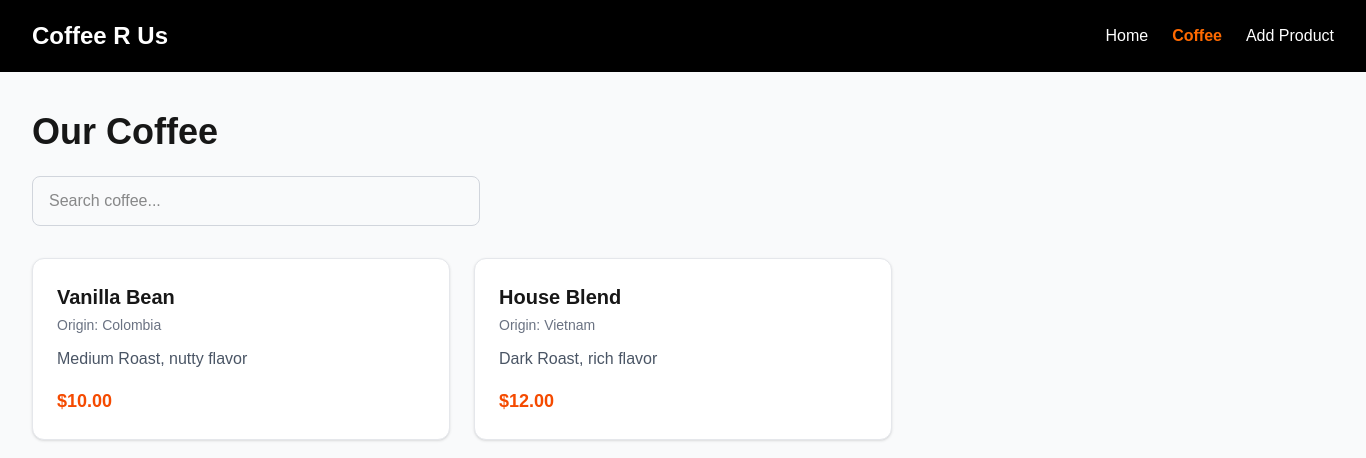
Scenario: search filters the products as the user types
Expected: the heading "Vanilla Bean" is shown, [57,286,175,308]
Type "viet" into the field with placeholder "Search coffee..." at (256, 201), box [32,176,480,226]
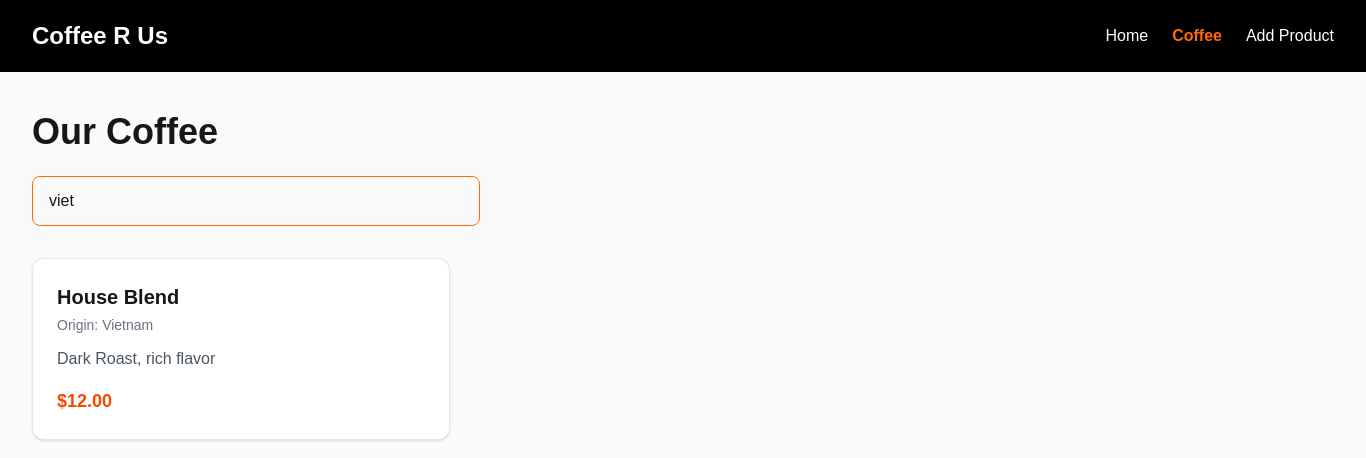
Expected: the heading "House Blend" is shown, [57,286,179,308]
Expected: the link "Vanilla Bean" is gone
